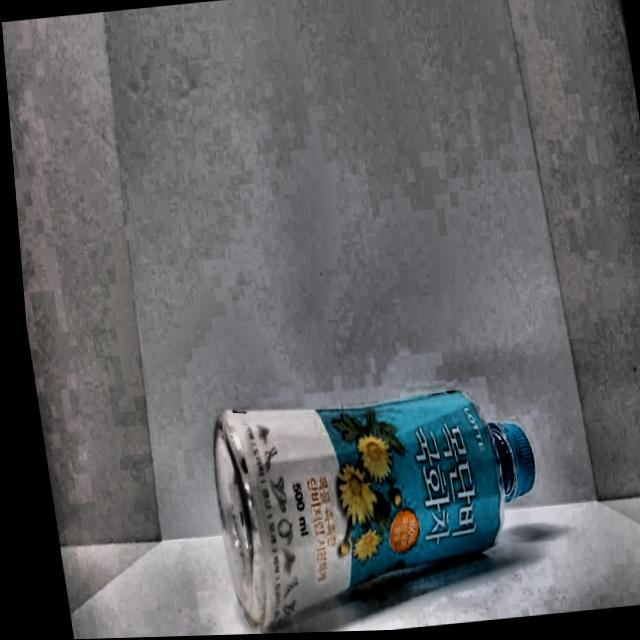Bottles: (170, 357, 557, 632)
